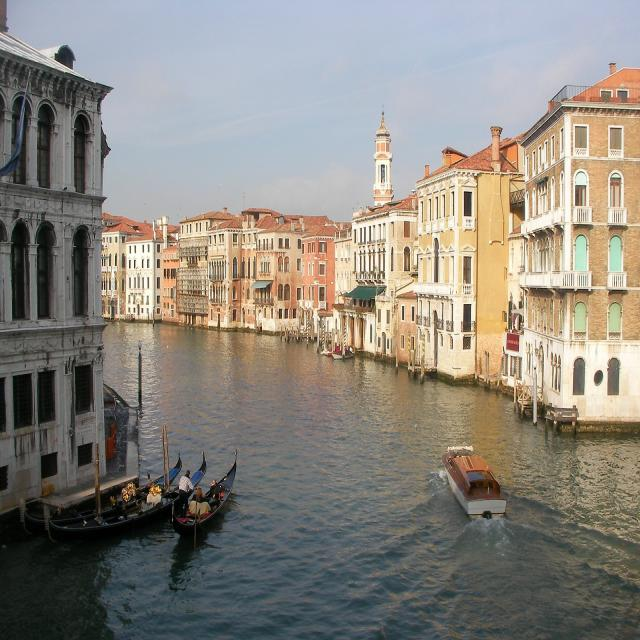boat: (20, 452, 213, 545), (163, 432, 249, 566)
